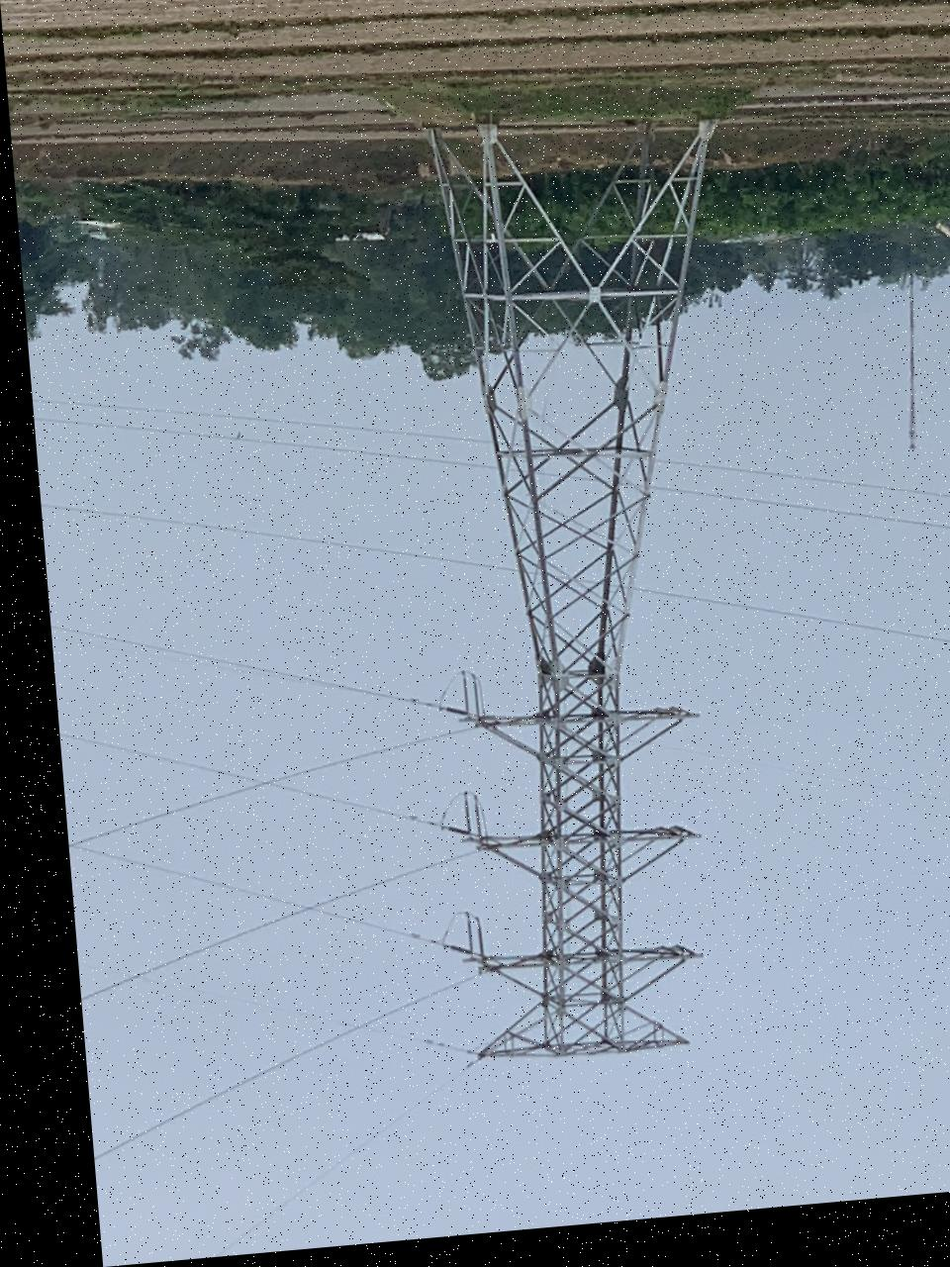tower: (397, 101, 781, 1096)
